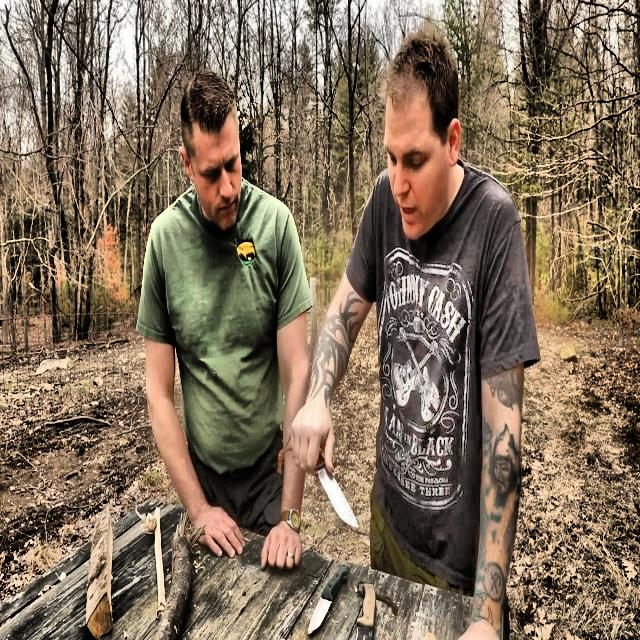knife: (316, 452, 358, 532), (312, 567, 346, 636), (355, 584, 375, 639)
